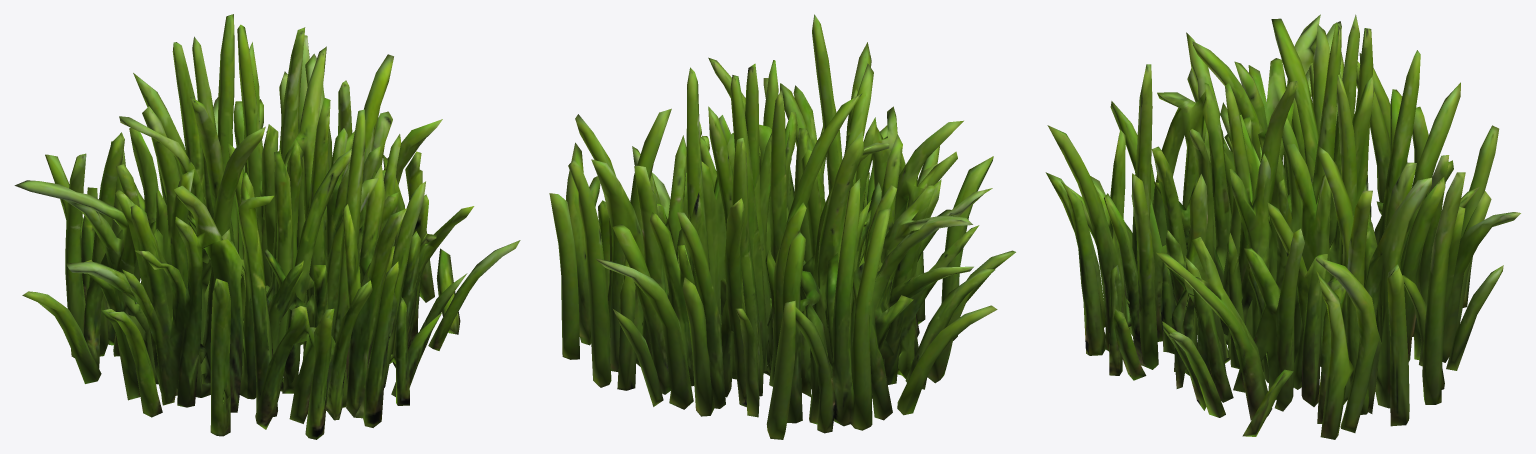
The model's file is Meshy_AI_Real_small_grass__0119124528_texture.fbx.
3 views of the same model, side by side, from view 1: azimuth 30°, elevation 25°; view 2: azimuth 150°, elevation 25°; view 3: azimuth 270°, elevation 25° (orthographic). The views are drawn at different scales.
Parts seen in each view (by area): view 1: Mesh1_Mesh1.009; view 2: Mesh1_Mesh1.009; view 3: Mesh1_Mesh1.009.
Boxes of the visible parts, <box> form: Mesh1_Mesh1.009: <box>14,14,520,439</box>; Mesh1_Mesh1.009: <box>549,14,1015,439</box>; Mesh1_Mesh1.009: <box>1045,14,1520,439</box>.
Bounding box in the file's own units: 201 × 145 × 187.
Materials: 1 (1 with a texture image).
